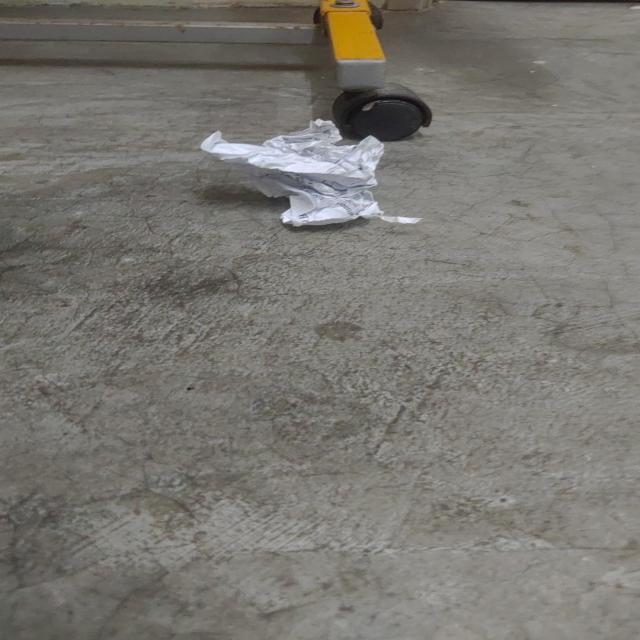paper: (182, 119, 436, 230)
